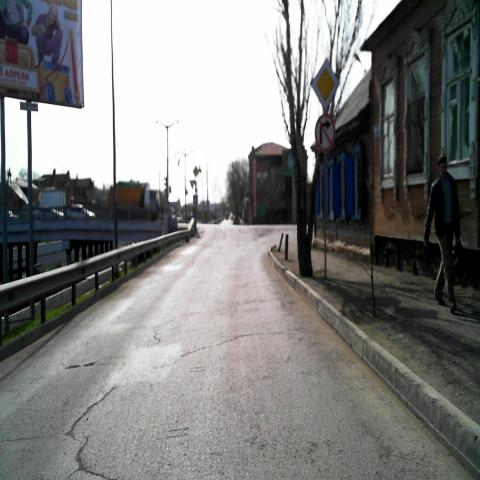3_18: (315, 114, 335, 151)
